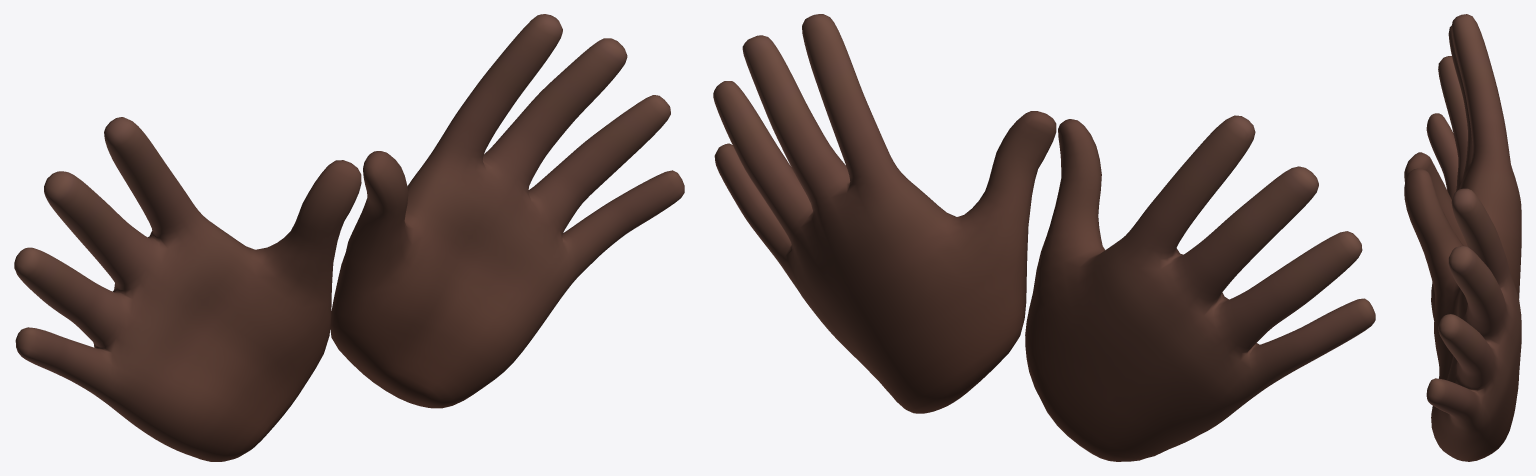
File: open_hands.glb
3 renders of one model, left to right at view 1: azimuth 30°, elevation 25°; view 2: azimuth 150°, elevation 25°; view 3: azimuth 270°, elevation 25°, orthographic. The views are drawn at different scales.
Visible parts, largest first — view 1: hand.039; view 2: hand.039; view 3: hand.039.
Part boxes in pixels (box(x1,y1,x2,y2)): hand.039: box(14, 14, 684, 461); hand.039: box(713, 14, 1375, 461); hand.039: box(1404, 14, 1521, 461).
Bounding box in the file's own units: 2.42 × 1.28 × 0.4381.
Materials: 2 (2 with a texture image).
